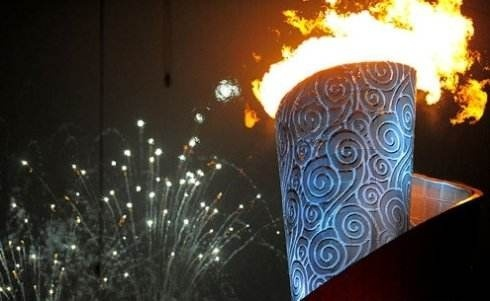fire: (247, 0, 485, 115)
